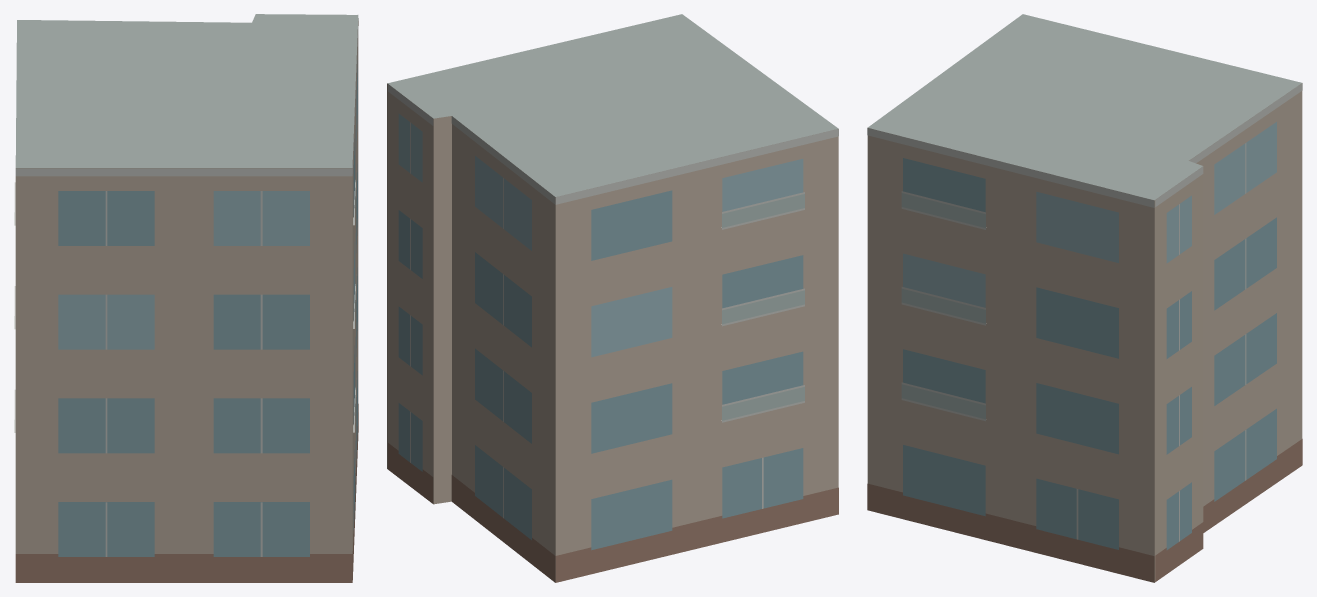
The model's file is survey-upis-32780250.glb.
3 views of the same model, side by side, from view 1: azimuth 30°, elevation 25°; view 2: azimuth 150°, elevation 25°; view 3: azimuth 270°, elevation 25° (orthographic). The views are drawn at different scales.
Visible parts, largest first — view 1: survey-upis-32780250.tmp; view 2: survey-upis-32780250.tmp; view 3: survey-upis-32780250.tmp.
Boxes of the visible parts, x1=… form: survey-upis-32780250.tmp: x1=14, y1=14, x2=358, y2=582; survey-upis-32780250.tmp: x1=387, y1=14, x2=838, y2=582; survey-upis-32780250.tmp: x1=867, y1=14, x2=1302, y2=582.
Bounding box in the file's own units: 12.76 × 12.2 × 12.58.
